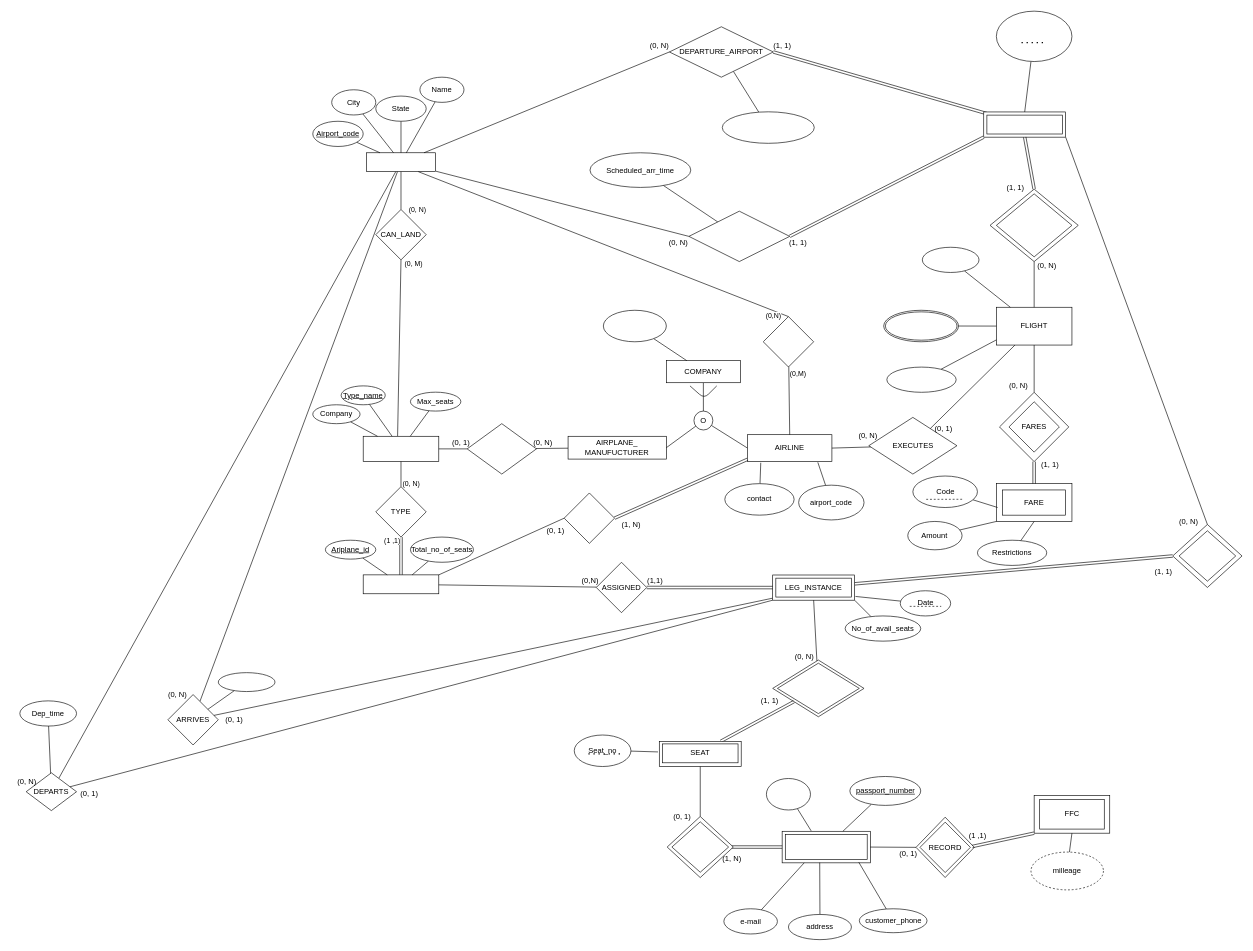
This 1253x951 diagram has some shape labels left out. Each missing label, with the centre of its shape:
"airline_name" goes at [921,379].
"AIRPLANE" goes at [401,584].
"AIRPLANE_TYPE" goes at [401,448].
"AIRPORT" goes at [401,162].
"Arr_time" goes at [246,682].
"ARRIVAL_AIRPORT" goes at [739,236].
"BUYS" goes at [700,846].
"Company_name" goes at [634,326].
"country" goes at [788,794].
"CUSTOMER" goes at [826,847].
"FLIGHT_LEG" goes at [1024,124].
"HAS" goes at [589,517].
"INSTANCE_OF" goes at [1207,555].
"Leg_no" goes at [1034,36].
"LEGS" goes at [1034,225].
"MANIFACTURE" goes at [501,448].
"Number" goes at [950,259].
"RESERVATION" goes at [818,688].
"Scheduled_dep_time" goes at [768,127].
"USES" goes at [788,341].
"Weekdays" goes at [921,325].
